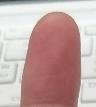Fingerprints: (20, 12, 81, 107)
